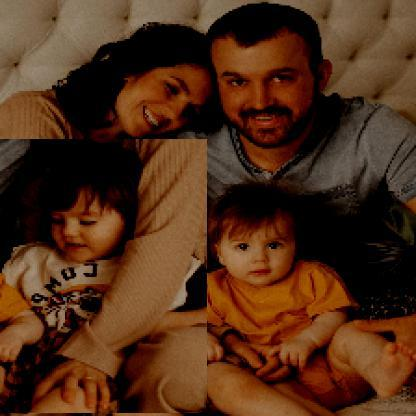child: (1, 140, 209, 415), (161, 178, 416, 401)
